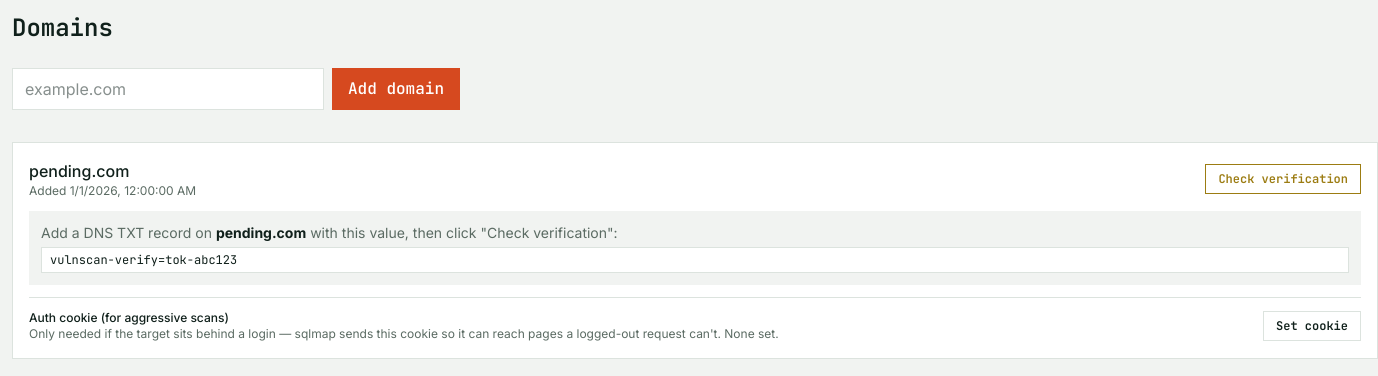
Scenario: Domains › checks verification and shows the Verified badge on success
The image size is (1378, 376).
Click the button "Check verification" at (1283, 179), box [1205,164,1361,194]
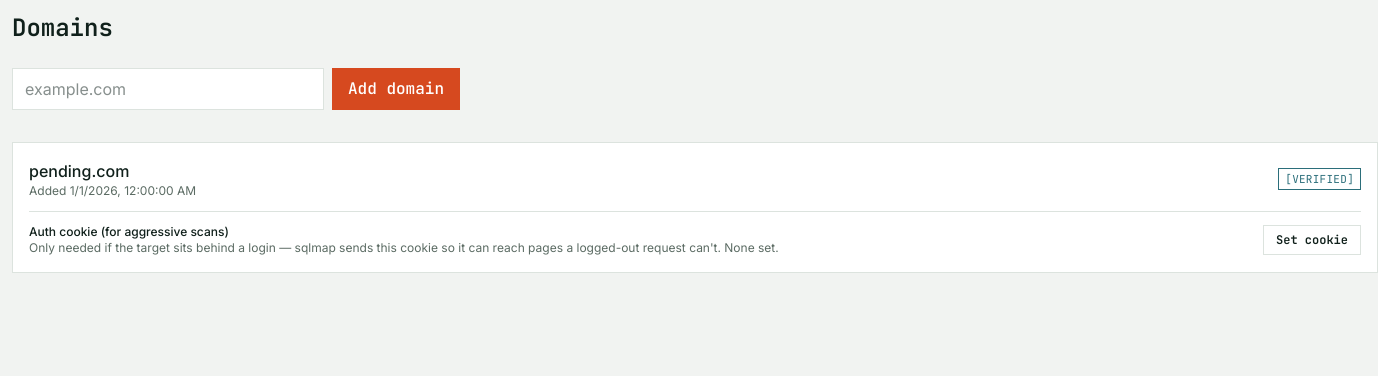
Check: the text "[Verified]" is shown, box [1278,168,1361,190]
